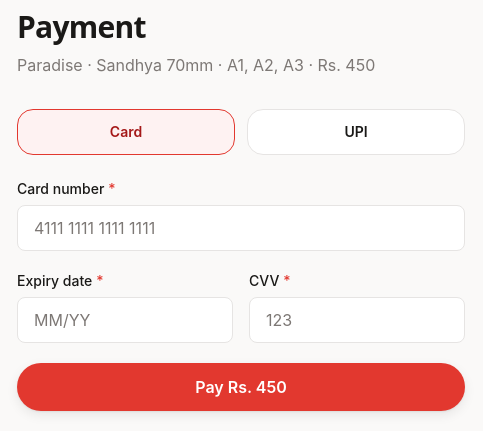
PaymentPage › switches back to Card fields when Card is selected
Click the button "UPI" at {"x": 356, "y": 132}, box [247,109,465,155]
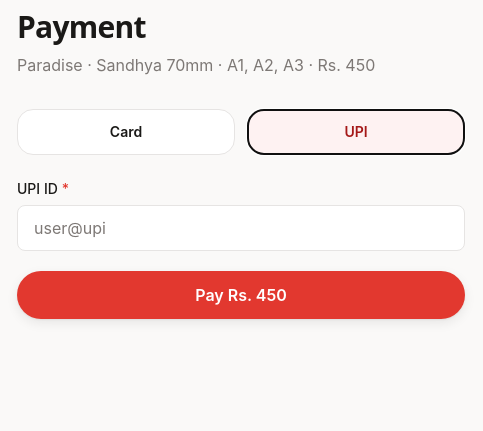
Click the button "Card" at {"x": 126, "y": 132}, box [17,109,235,155]
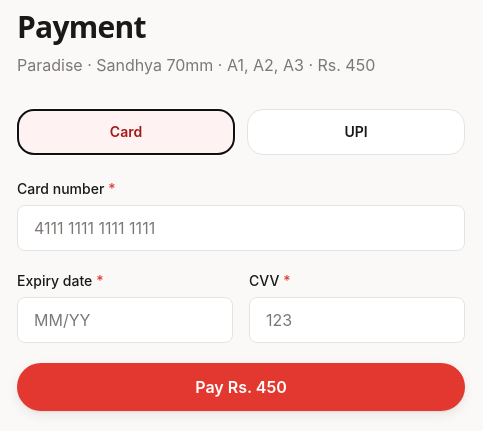
Expected: the field labelled "Card number*" is shown, [17,205,465,251]
